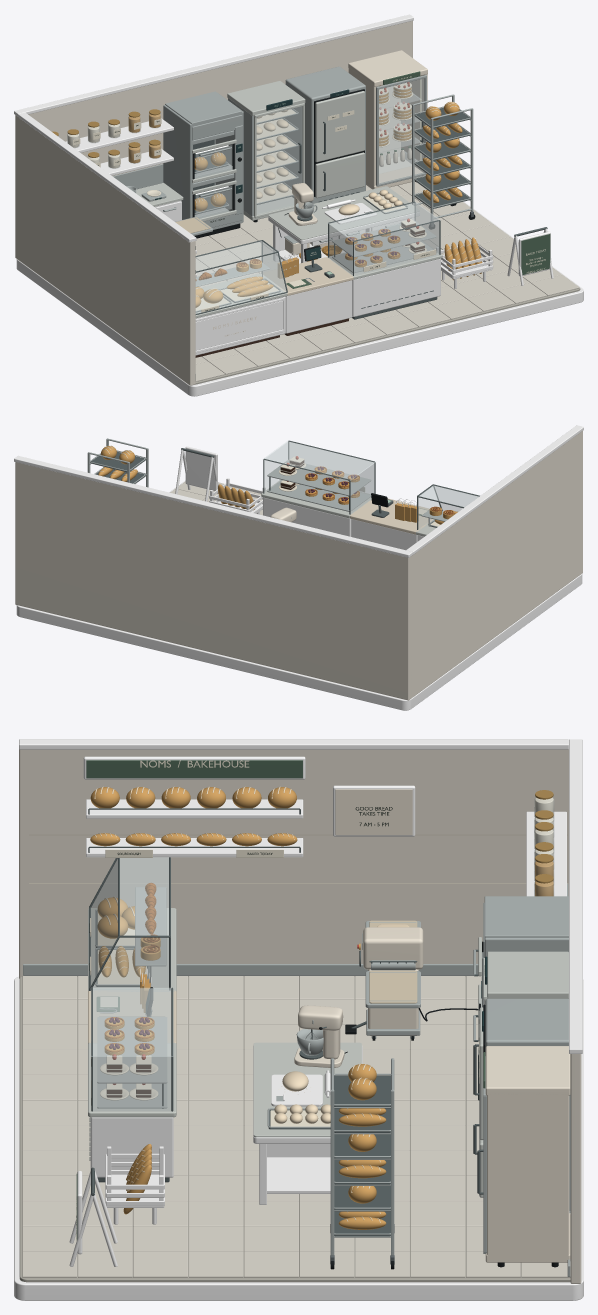
File: modern-baking-lab.glb
3 renders of one model, top to bottom at view 1: azimuth 30°, elevation 25°; view 2: azimuth 150°, elevation 25°; view 3: azimuth 270°, elevation 25°, orthographic. The views are drawn at different scales.
Parts seen in each view (by area): view 1: Left plaster wall export, Rear plaster wall export, Oak miniature base export, Proofer full door glass export, Retail fridge clear door export, Angled clear front pane export, Patisserie refrigerated base export, Rear oak cap export, Ingredient fridge upper door export, Ingredient fridge insulated cabinet export, Patisserie clear front export, Display recessed oak front export (+53 smaller); view 2: Rear plaster wall export, Left plaster wall export, Oak miniature base export, Rear oak cap export, Patisserie glass roof export, Left oak cap export, Patisserie clear front export, Patisserie refrigerated base export, Checkout pale countertop export, Patisserie display shelf.001 export, Checkout oak body export, Front-of-shop chalk menu walnut frame export (+8 smaller); view 3: Left plaster wall export, Retail fridge insulated side.001 export, Oak miniature base export, Grout bed export, Left oak cap export, Patisserie glass roof export, Rear oak cap export, Patisserie glass end.001 export, Ingredient fridge insulated cabinet export, Retail fridge cap.001 export, Brushed steel island work surface export, Bakery wall brand painted face export (+93 smaller).
Part boxes in pixels (x1,y1,x2,y2): Left plaster wall export: (16, 116, 195, 385); Rear plaster wall export: (15, 21, 412, 258); Oak miniature base export: (16, 201, 583, 396); Proofer full door glass export: (257, 106, 302, 214); Retail fridge clear door export: (379, 78, 424, 182); Angled clear front pane export: (196, 253, 286, 313); Patisserie refrigerated base export: (352, 258, 440, 316); Rear oak cap export: (14, 14, 413, 116); Ingredient fridge upper door export: (315, 91, 364, 162); Ingredient fridge insulated cabinet export: (285, 66, 365, 203); Patisserie clear front export: (354, 221, 439, 275); Display recessed oak front export: (195, 301, 282, 350); Rear plaster wall export: (15, 462, 411, 700); Left plaster wall export: (410, 431, 582, 699); Oak miniature base export: (16, 480, 582, 710); Rear oak cap export: (14, 455, 412, 557); Patisserie glass roof export: (263, 440, 375, 480); Left oak cap export: (406, 425, 583, 554); Patisserie clear front export: (289, 442, 373, 494); Patisserie refrigerated base export: (263, 497, 351, 536); Checkout pale countertop export: (350, 498, 433, 534); Patisserie display shelf.001 export: (267, 459, 371, 495); Checkout oak body export: (351, 519, 417, 550); Front-of-shop chalk menu walnut frame export: (185, 446, 217, 490); Left plaster wall export: (19, 749, 568, 978); Retail fridge insulated side.001 export: (487, 1092, 569, 1262); Oak miniature base export: (14, 976, 583, 1300); Grout bed export: (19, 977, 570, 1282); Left oak cap export: (19, 739, 568, 749); Patisserie glass roof export: (91, 988, 173, 1056); Rear oak cap export: (569, 739, 582, 1053); Patisserie glass end.001 export: (93, 1056, 170, 1110); Ingredient fridge insulated cabinet export: (485, 998, 570, 1212); Retail fridge cap.001 export: (485, 1046, 570, 1095); Brushed steel island work surface export: (253, 1042, 361, 1137); Bakery wall brand painted face export: (86, 760, 302, 778).
Bounding box in the file's own units: 9.53 × 3.62 × 7.4.
39 materials, 1 textured.
